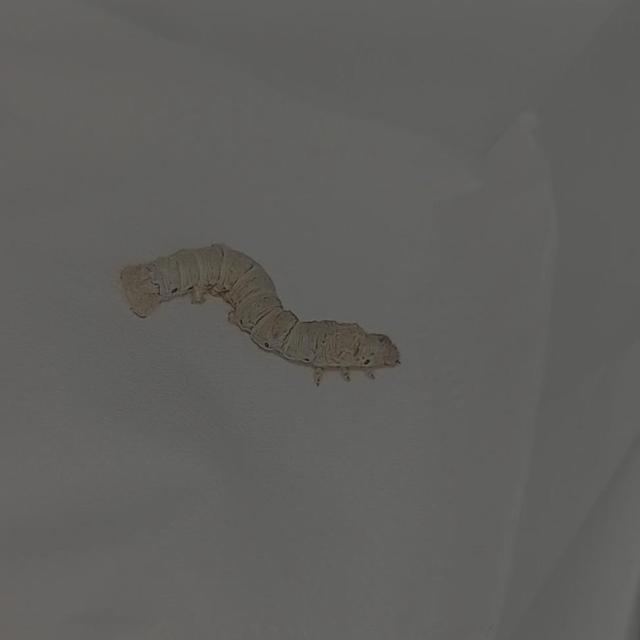Healthy: (109, 227, 407, 391)
